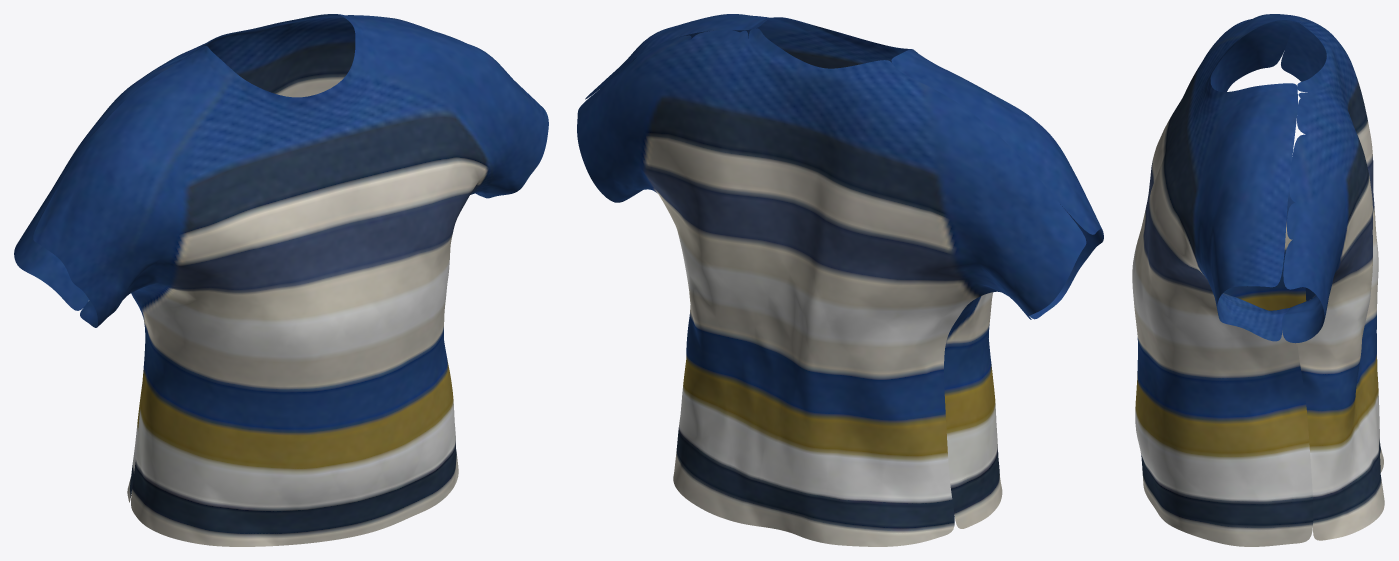
The model's file is TXS_SMM.dae.
The picture shows the model from 3 angles, left to right: view 1: azimuth 30°, elevation 25°; view 2: azimuth 150°, elevation 25°; view 3: azimuth 270°, elevation 25°; orthographic projection. The views are drawn at different scales.
Visible parts, largest first — view 1: tshirt; view 2: tshirt; view 3: tshirt.
Boxes of the visible parts, x1,y1,x2,y2 form: tshirt: (14, 14, 548, 546); tshirt: (577, 14, 1103, 546); tshirt: (1132, 14, 1384, 546).
Size of the model in its own units: 6.11 by 5.27 by 2.79.
